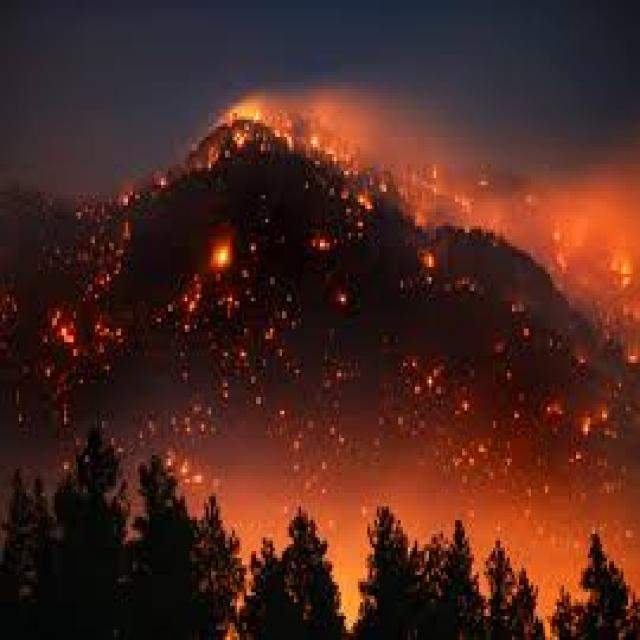Fire: (1, 91, 640, 472), (106, 472, 640, 639)
